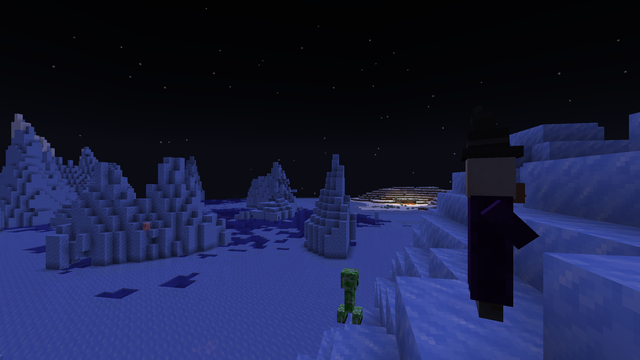cochons: (140, 222, 151, 230)
creepers: (339, 265, 358, 324)
sorcieres: (453, 150, 529, 326)
